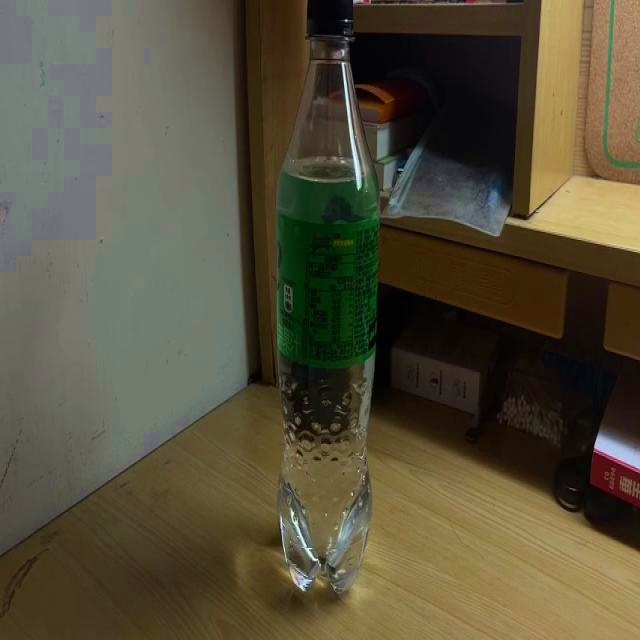Sprite: (277, 0, 378, 592)
